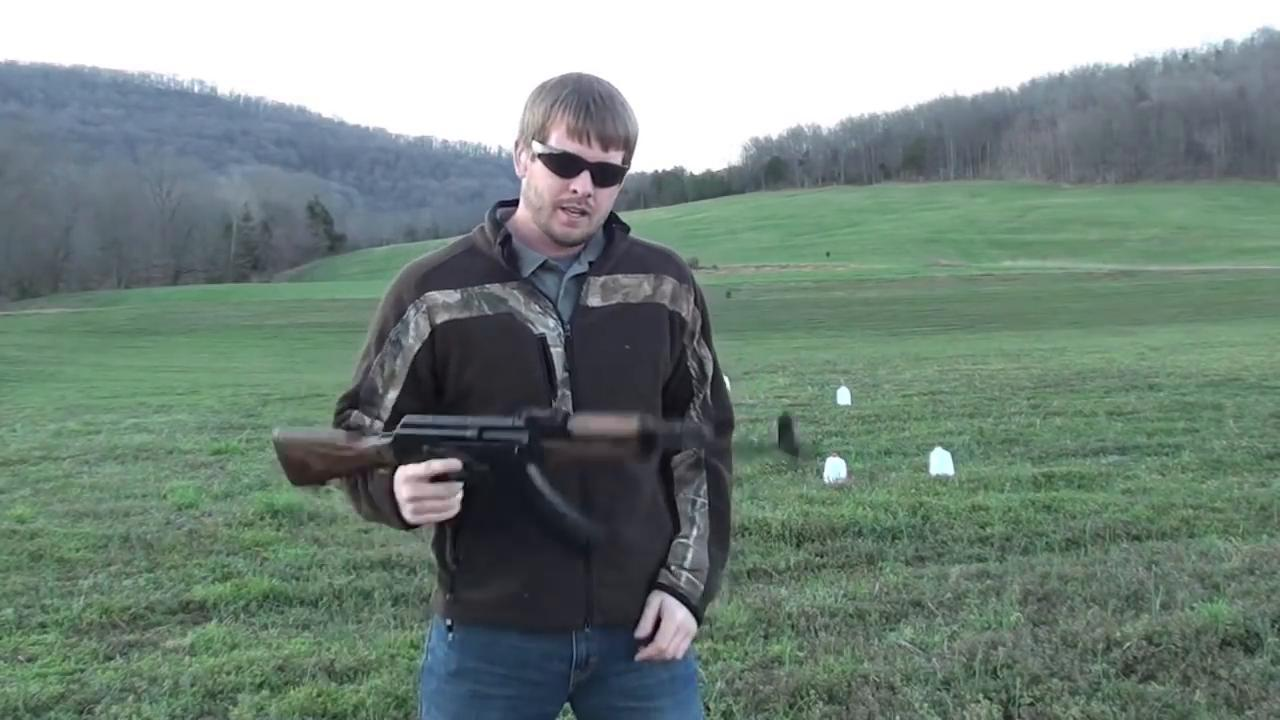AK47 Rifle: (271, 411, 815, 553)
